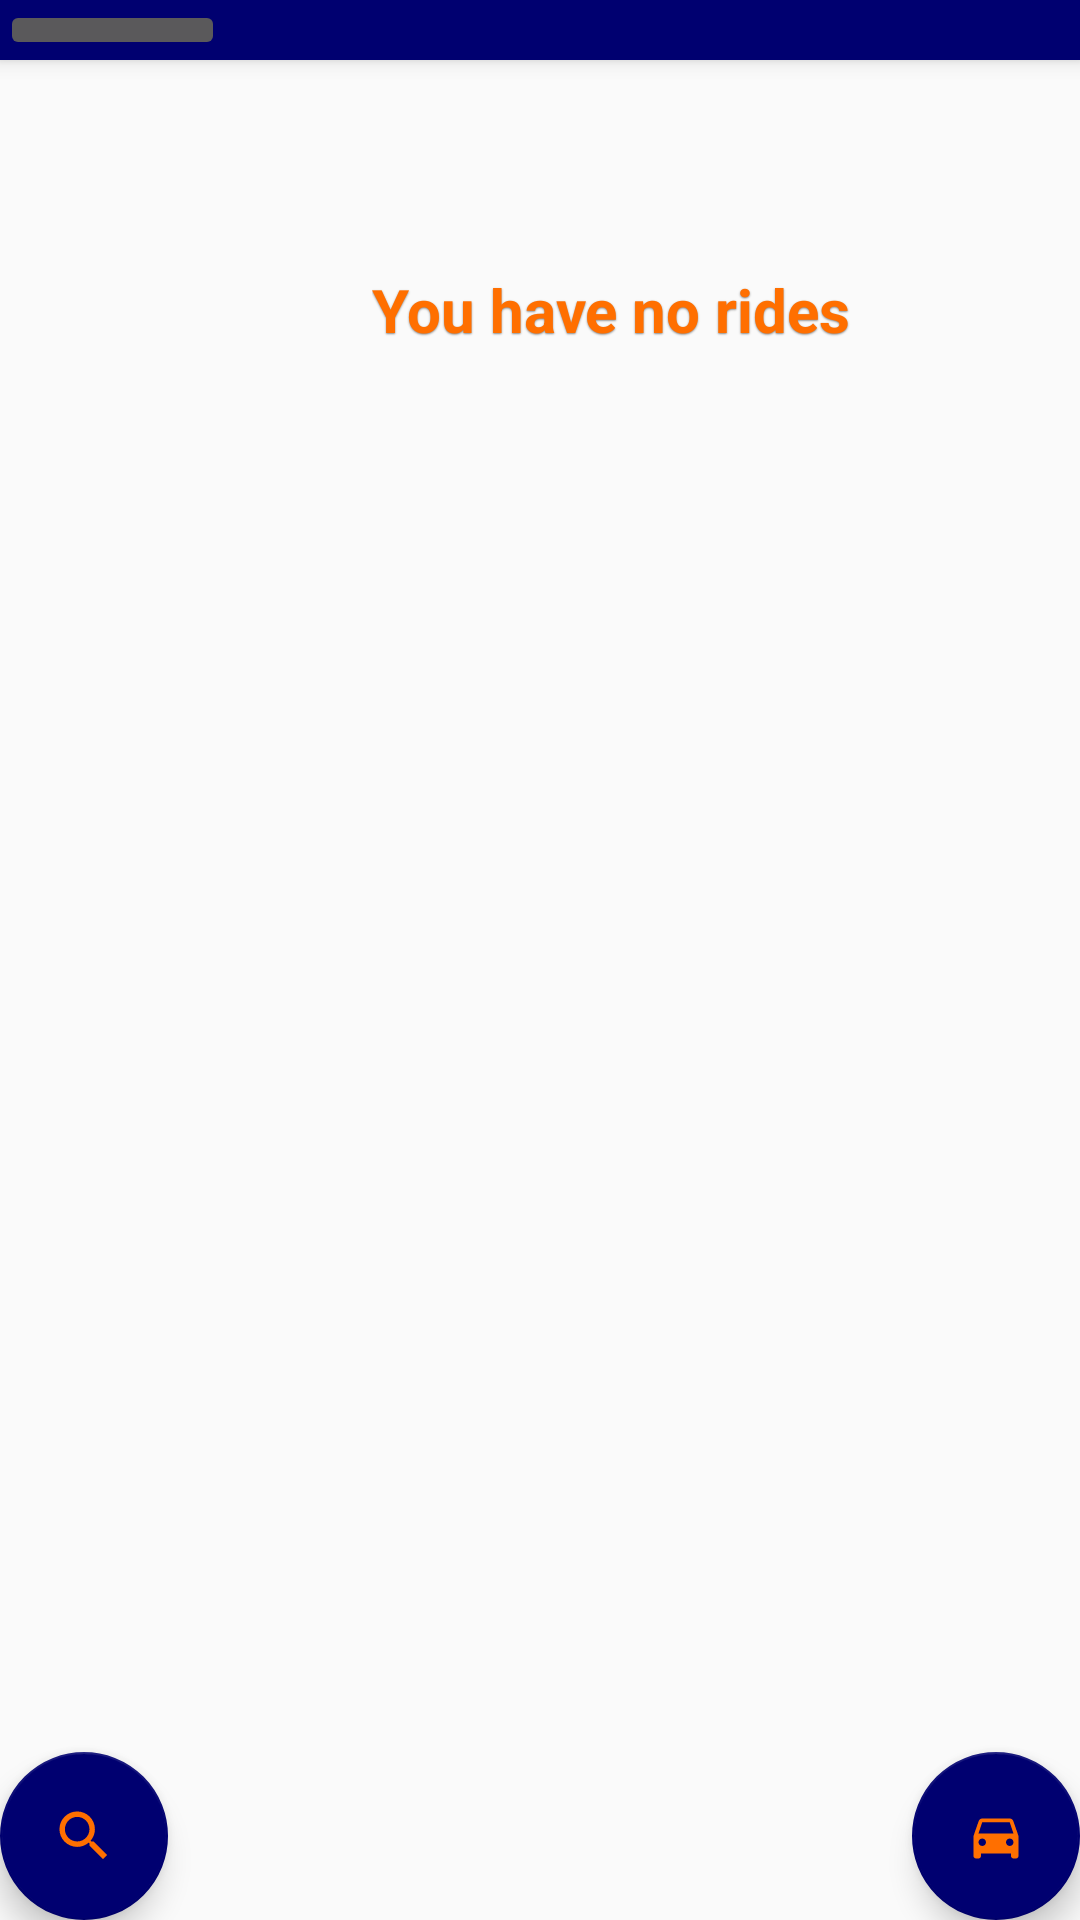

Locate icon controls on the screen. Image size 1080*1920, boxes as (x1, y1, x2, y2).
create ride: (912, 1752, 1080, 1920)
search ride: (0, 1752, 168, 1920)
